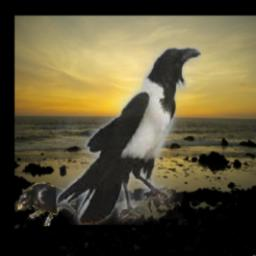Crow: (57, 48, 202, 226), (18, 183, 77, 227)
